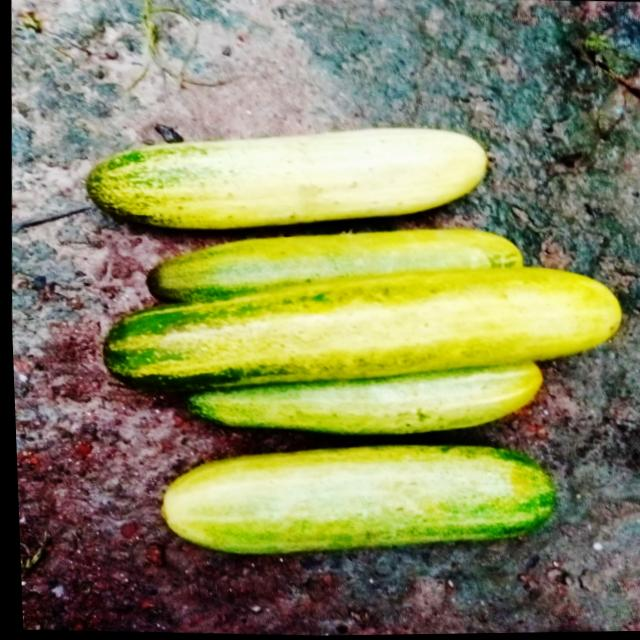Fresh-Cucumber: (93, 248, 621, 410), (152, 430, 557, 564), (77, 113, 489, 243), (139, 220, 522, 317), (176, 346, 549, 445)
